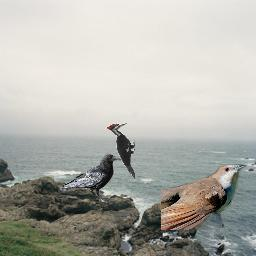Crow: (58, 153, 121, 203)
Cuckoo: (161, 164, 247, 230)
Woodpecker: (105, 123, 135, 181)
